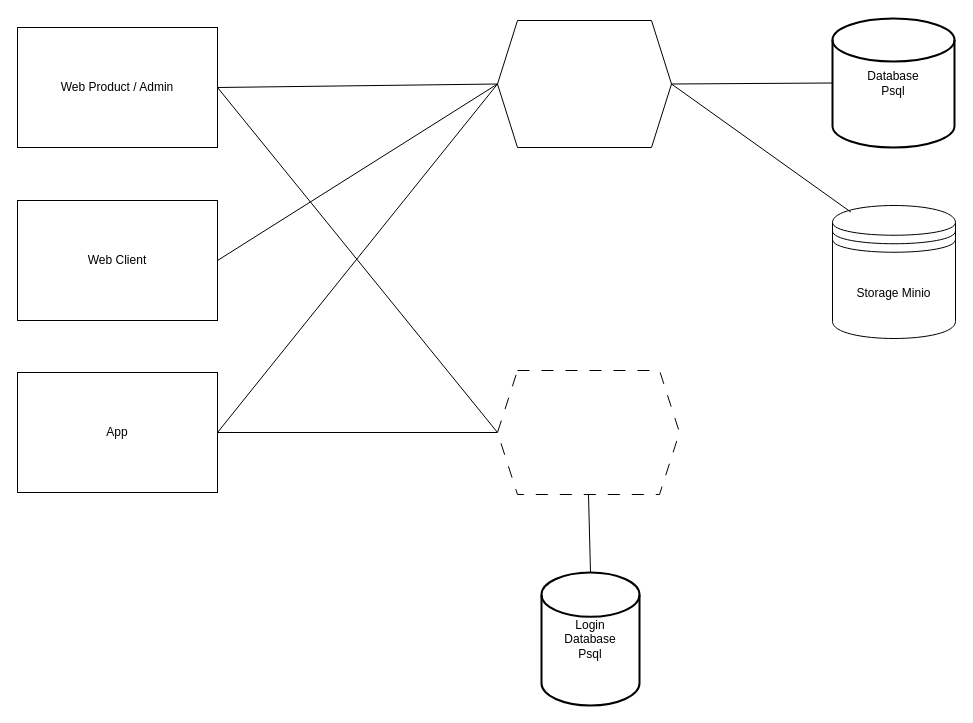
Image size: 973x723. Some labels were removed from this diagram. Here are the shapes that lost their labels. From the top down, the centre of each, then its label:
[584,84]: API
[588,432]: Login Service
